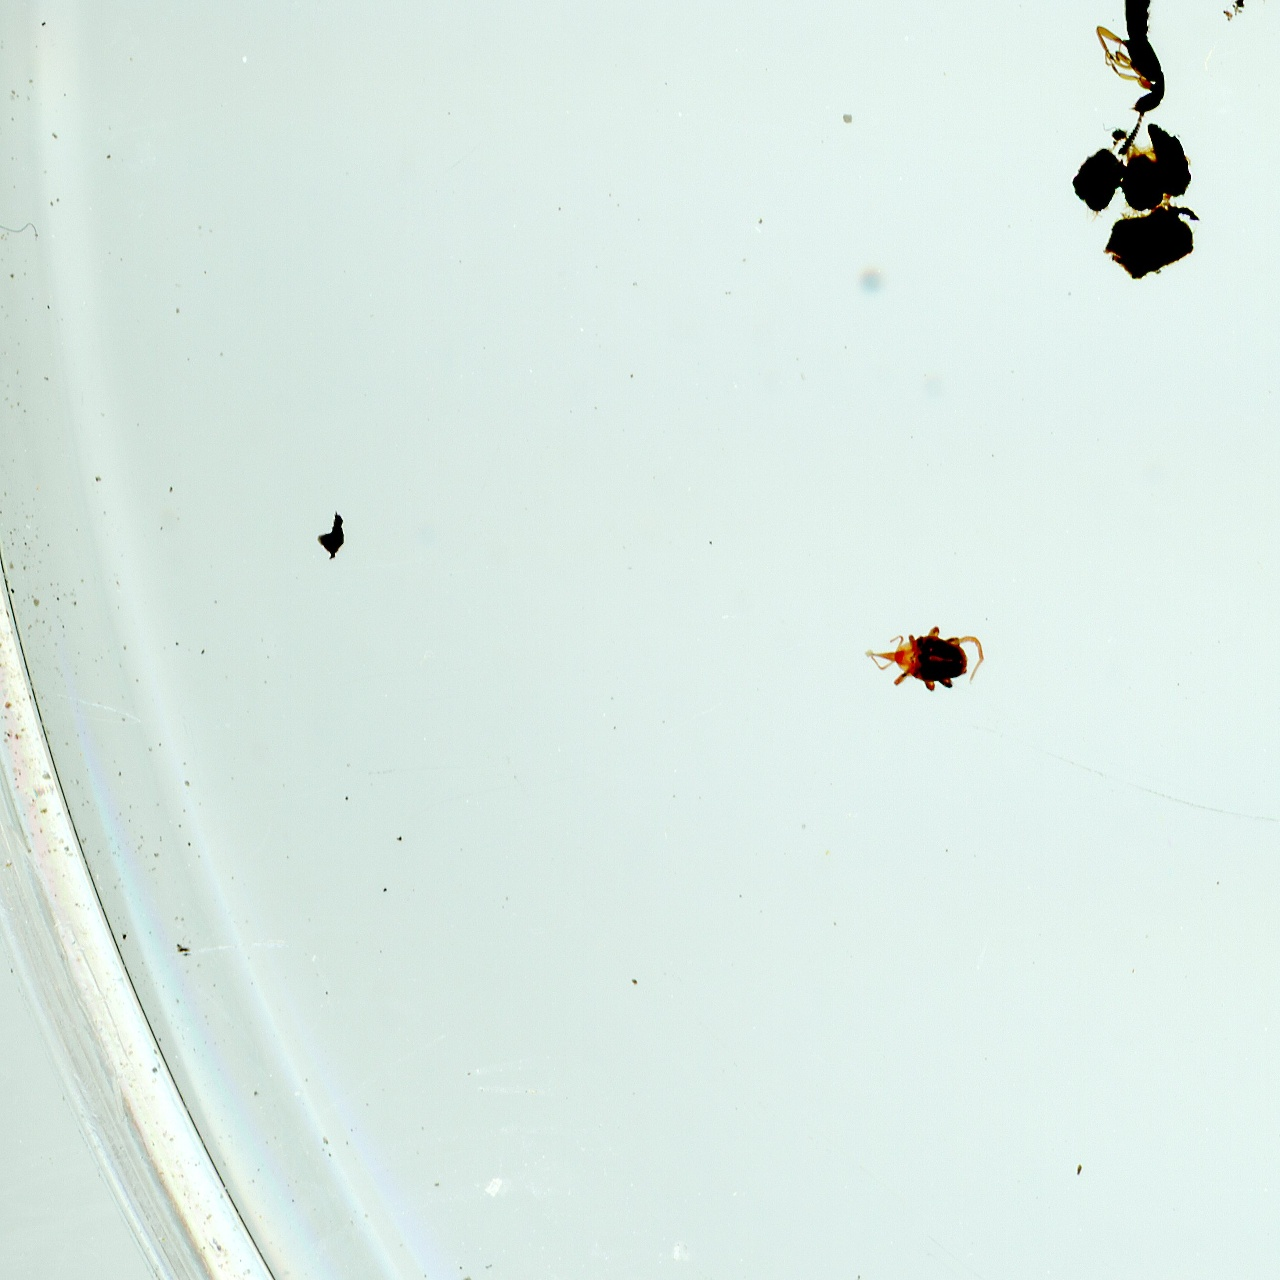arthropod: (1094, 0, 1172, 162), (862, 621, 990, 697)
